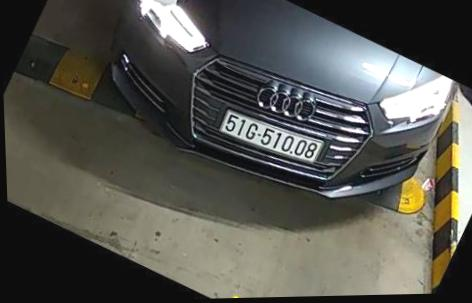License_Plate: (212, 108, 322, 168)
